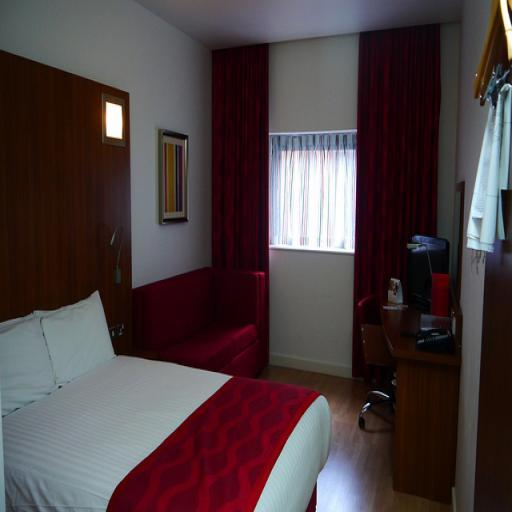bed: (8, 265, 346, 511)
